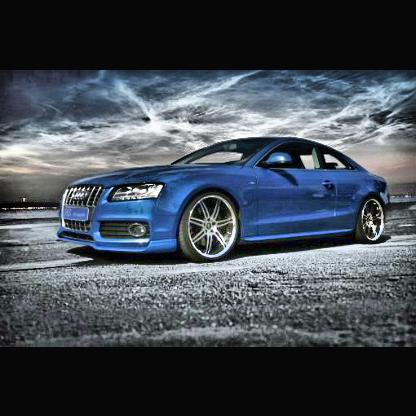Audi S5 Coupe 2012: (58, 133, 391, 266)
